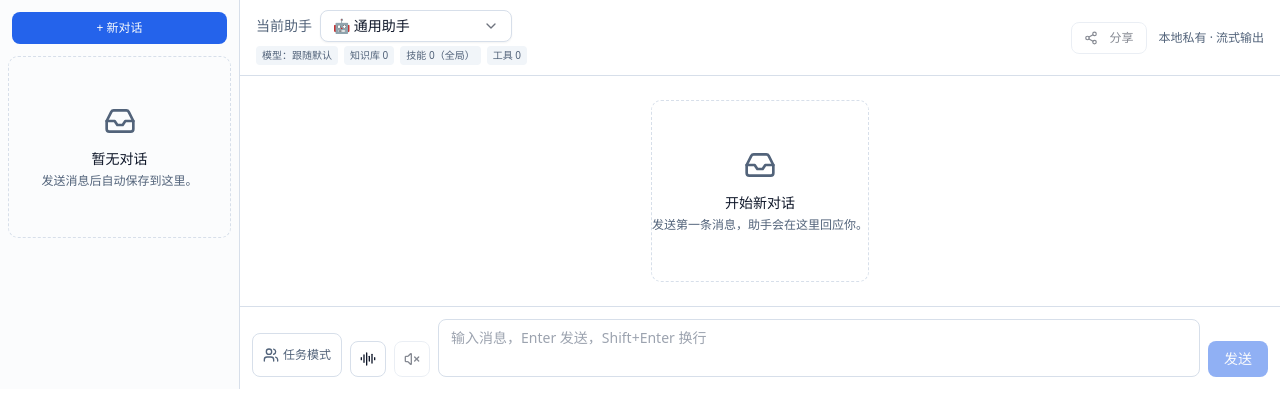
对话页（TR-27.1） › 端到端：发送消息后渲染用户气泡与流式回复，并自动归入新会话
This screenshot has width=1280, height=406.
Type "在吗" into the text box named "消息输入框" at (819, 348), box [438, 319, 1200, 377]
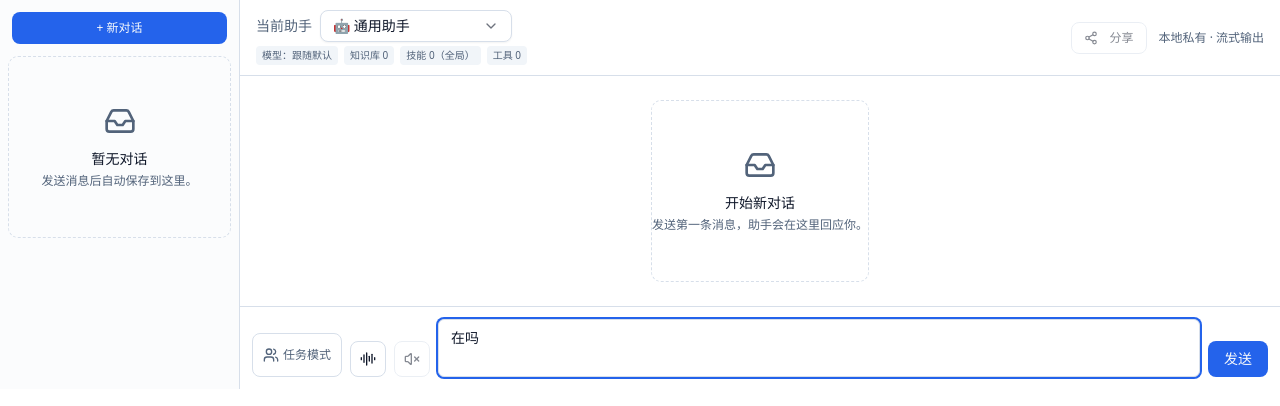
Click the button with aria-label "发送消息" at (1238, 359), box [1208, 341, 1268, 377]
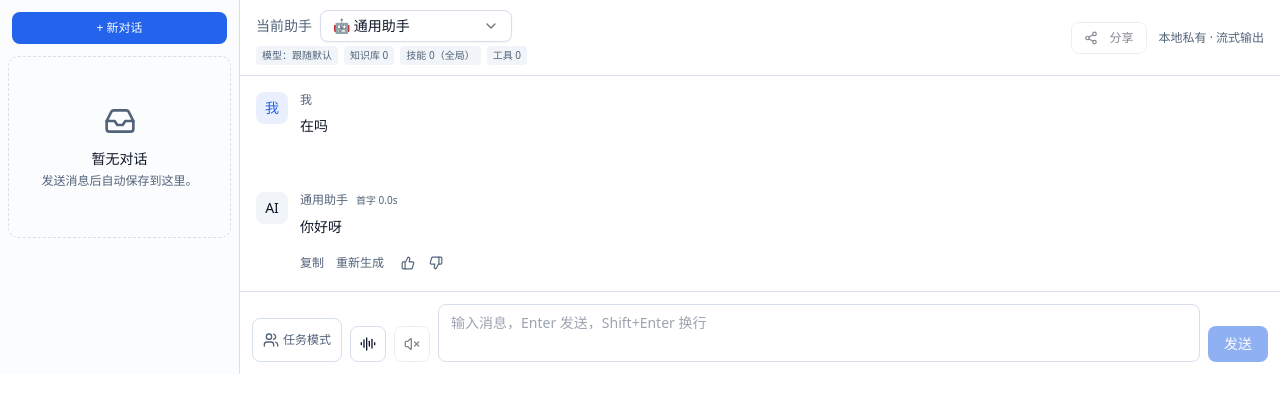
Expected: the text "你好呀" is shown, [300, 217, 342, 236]
Expected: the text "在吗" is shown, [300, 116, 328, 135]
